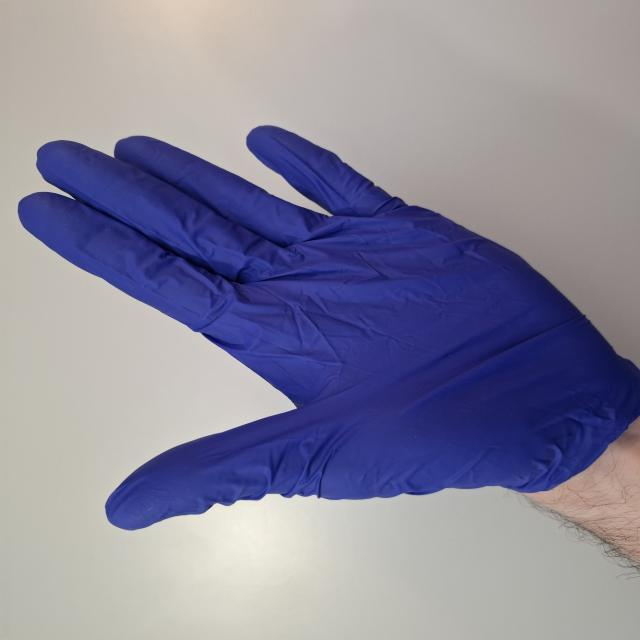glove_on: (14, 123, 640, 533)
